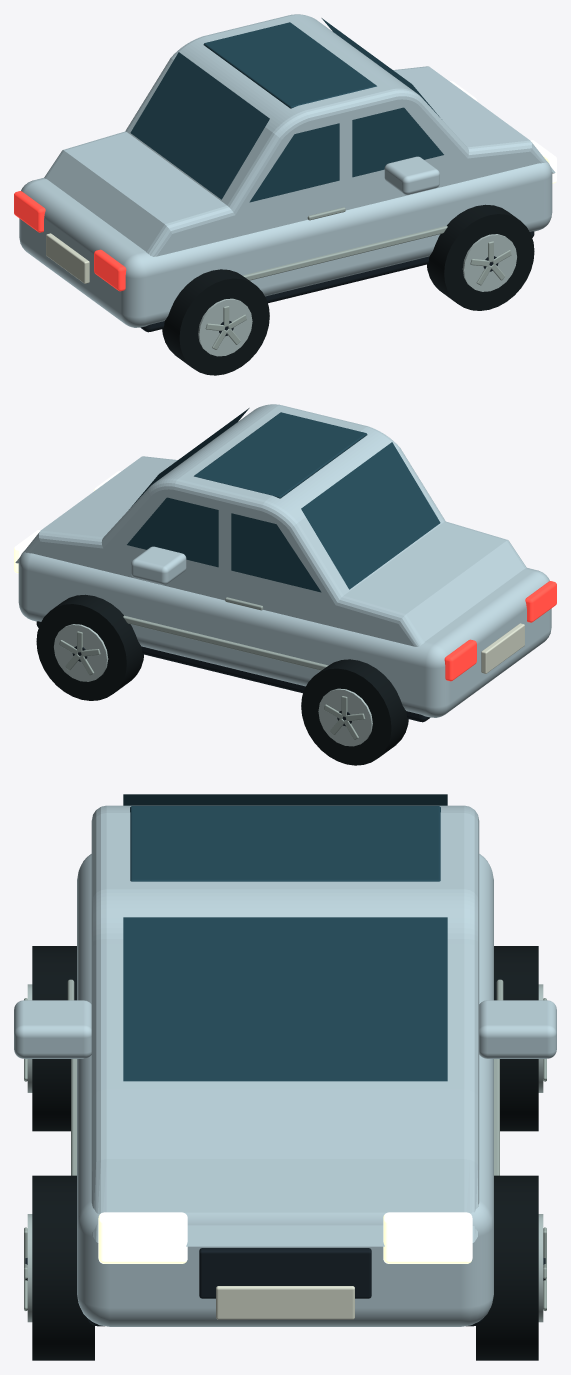
Rendered from sedan.glb.
3 views of the same model, one above another, from view 1: azimuth 30°, elevation 25°; view 2: azimuth 150°, elevation 25°; view 3: azimuth 270°, elevation 25° (orthographic). The views are drawn at different scales.
Visible parts, largest first — view 1: Sculpted roof and hood, Rounded lower body, Tire (×2), Rear windshield, Panoramic roof glass, Front side window 1, Rear side window 1, Alloy rim (×2), Side mirror 1, Lower side trim 1, Lower dark sill, Rear license plate (+3 smaller); view 2: Sculpted roof and hood, Rounded lower body, Tire (×2), Rear windshield, Panoramic roof glass, Front side window -1, Rear side window -1, Alloy rim (×2), Side mirror -1, Lower side trim -1, Lower dark sill, Rear license plate (+3 smaller); view 3: Sculpted roof and hood, Front windshield, Rounded lower body, Tire (×4), Panoramic roof glass, Front grille, Front plate, Headlight -1, Headlight 1, Side mirror -1, Side mirror 1, Rear windshield (+2 smaller).
Part boxes in pixels (x1,y1,x2,y2): Sculpted roof and hood: (44, 14, 555, 256); Rounded lower body: (19, 161, 552, 327); Tire (×2): (162, 204, 534, 375); Rear windshield: (130, 52, 269, 199); Panoramic roof glass: (203, 22, 376, 108); Front side window 1: (352, 107, 443, 177); Rear side window 1: (249, 123, 339, 202); Alloy rim (×2): (198, 234, 516, 356); Side mirror 1: (384, 156, 439, 194); Lower side trim 1: (242, 225, 447, 280); Lower dark sill: (140, 231, 534, 332); Rear license plate: (46, 233, 89, 283); Sculpted roof and hood: (15, 404, 526, 646); Rounded lower body: (18, 551, 551, 717); Tire (×2): (36, 594, 408, 765); Rear windshield: (301, 442, 440, 589); Panoramic roof glass: (194, 412, 367, 498); Front side window -1: (127, 497, 218, 567); Rear side window -1: (231, 513, 321, 592); Alloy rim (×2): (54, 624, 372, 746); Side mirror -1: (131, 546, 186, 584); Lower side trim -1: (123, 615, 328, 670); Lower dark sill: (36, 621, 430, 722); Rear license plate: (481, 623, 524, 673); Sculpted roof and hood: (91, 805, 479, 1246); Front windshield: (123, 917, 447, 1081); Rounded lower body: (77, 854, 493, 1326); Tire (×4): (32, 946, 538, 1360); Panoramic roof glass: (130, 806, 440, 881); Front grille: (199, 1248, 371, 1298); Front plate: (216, 1286, 354, 1319); Headlight -1: (383, 1212, 472, 1263); Headlight 1: (98, 1212, 187, 1263); Side mirror -1: (479, 1000, 556, 1058); Side mirror 1: (14, 1000, 91, 1058); Rear windshield: (123, 794, 447, 805).
Size of the model in its own units: 2.75 by 1.33 by 1.64.
